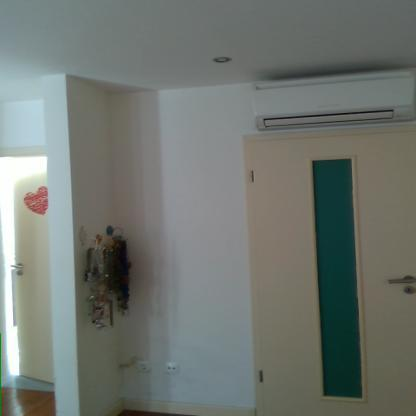door: (250, 141, 415, 411), (12, 180, 57, 382)
hinged: (248, 168, 256, 182), (258, 370, 266, 382)
lever: (390, 273, 415, 287), (10, 263, 26, 270)
